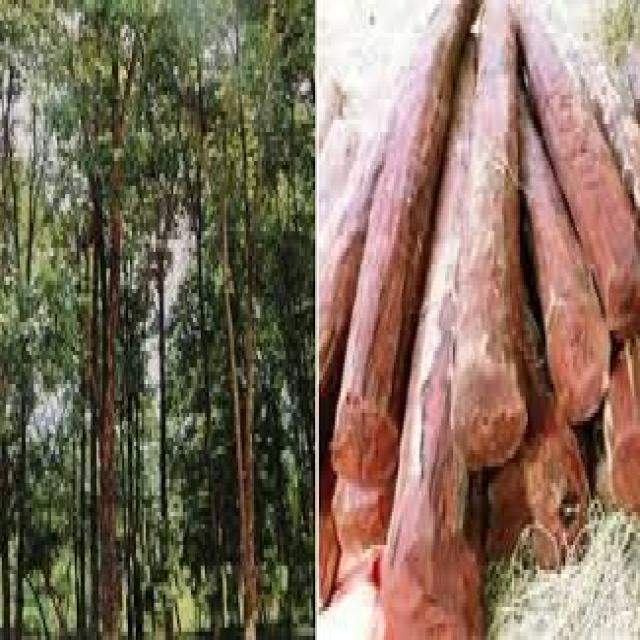Sandalwood: (362, 11, 592, 537), (64, 52, 257, 492)
